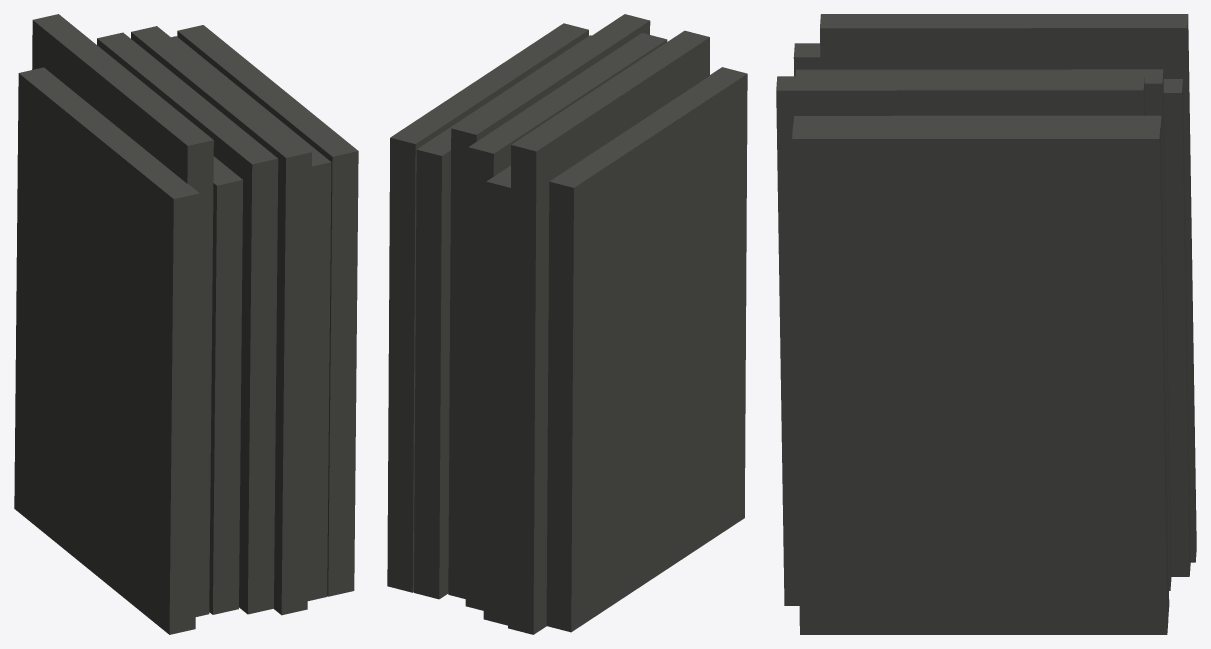
File: office_filestack03_cube.fbx
3 views of the same model, side by side, from view 1: azimuth 30°, elevation 25°; view 2: azimuth 150°, elevation 25°; view 3: azimuth 270°, elevation 25° (orthographic). The views are drawn at different scales.
Parts seen in each view (by area): view 1: office_filestack03_cube; view 2: office_filestack03_cube; view 3: office_filestack03_cube.
Boxes of the visible parts, x1,y1,x2,y2 form: office_filestack03_cube: (14, 14, 358, 634); office_filestack03_cube: (387, 14, 747, 634); office_filestack03_cube: (776, 14, 1196, 634).
Size of the model in its own units: 0.4684 by 1.12 by 0.788.
